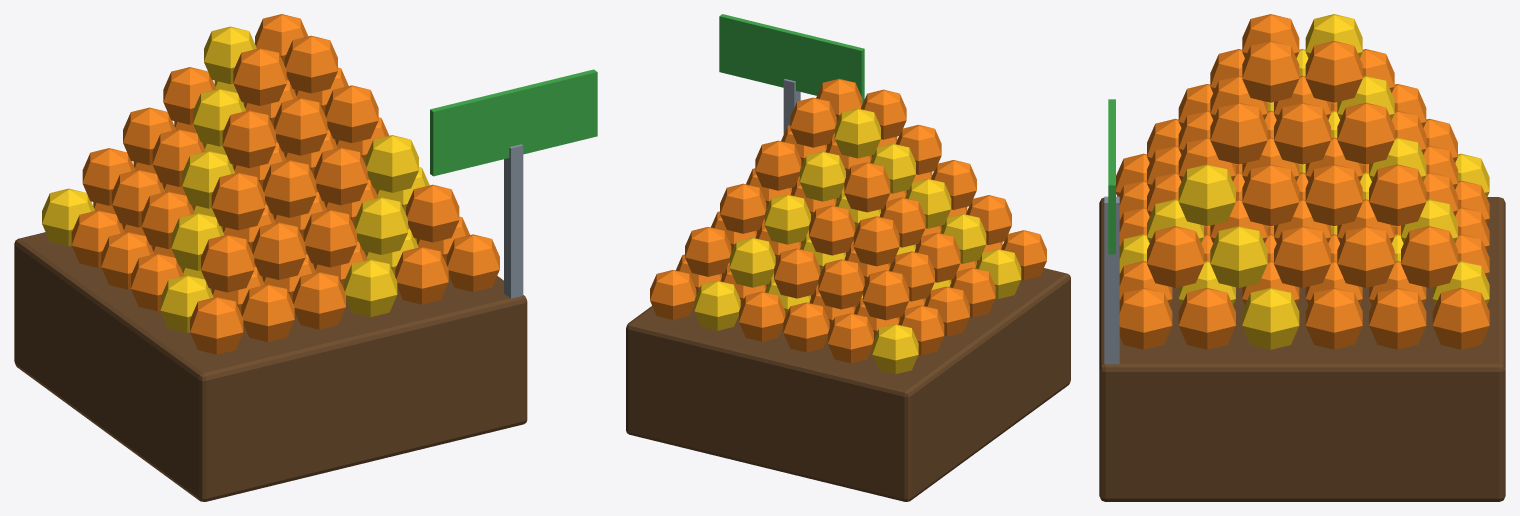
Rendered from tumble-bin.glb.
3 renders of one model, left to right at view 1: azimuth 30°, elevation 25°; view 2: azimuth 150°, elevation 25°; view 3: azimuth 270°, elevation 25°, orthographic. The views are drawn at different scales.
Parts seen in each view (by area): view 1: tumble-bin; view 2: tumble-bin; view 3: tumble-bin.
Part boxes in pixels (left/top/right/bottom): tumble-bin: left=14, top=14, right=597, bottom=501; tumble-bin: left=626, top=14, right=1070, bottom=501; tumble-bin: left=1099, top=14, right=1505, bottom=501.
Size of the model in its own units: 3.9 by 3.39 by 3.2.
